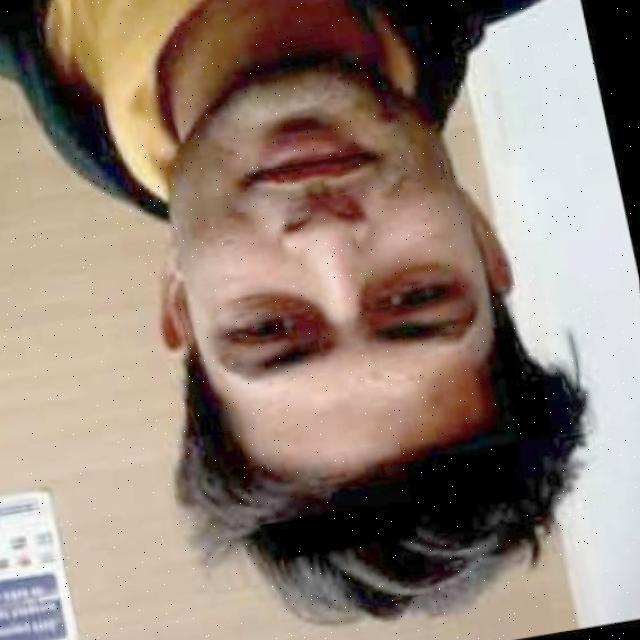puffy_eyes: (223, 294, 322, 326), (373, 267, 460, 296)
